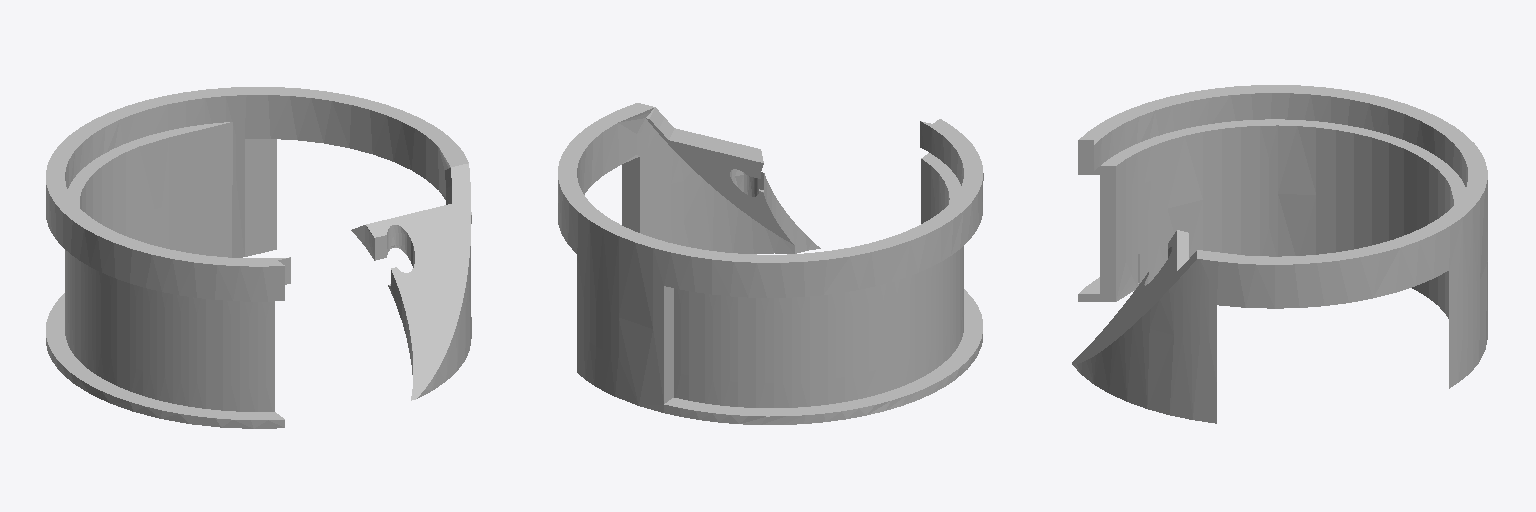
File: barbot3.obj
3 renders of one model, left to right at view 1: azimuth 30°, elevation 25°; view 2: azimuth 150°, elevation 25°; view 3: azimuth 270°, elevation 25°, orthographic.
Bounding box in the file's own units: 44 × 18.5 × 42.95.